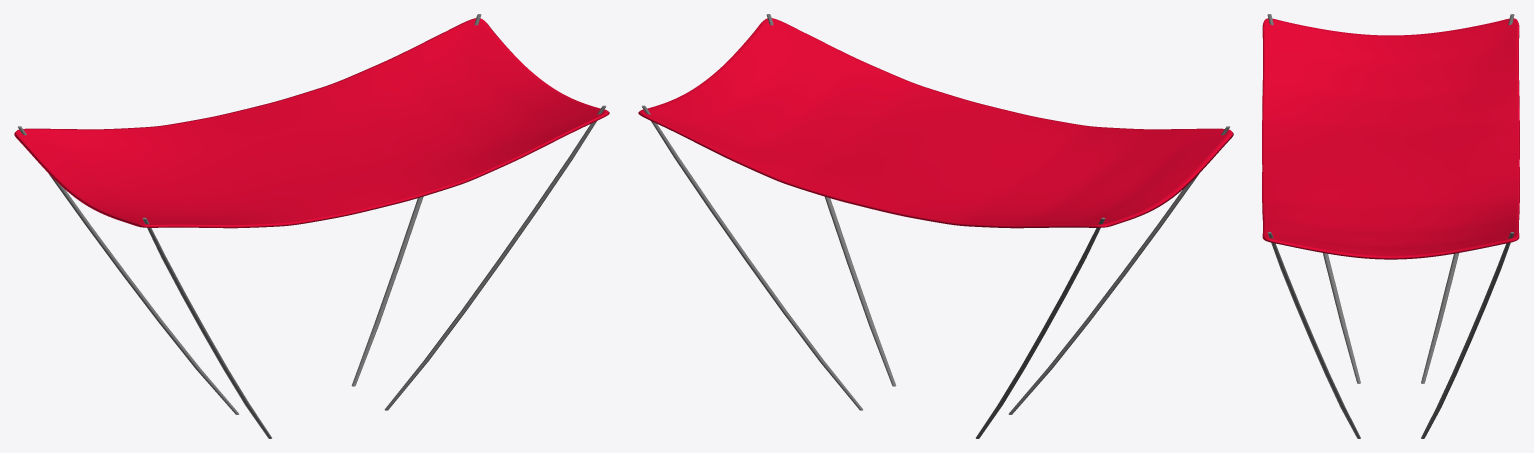
File: uploads_files_2587987_parachute!.fbx
3 renders of one model, left to right at view 1: azimuth 30°, elevation 25°; view 2: azimuth 150°, elevation 25°; view 3: azimuth 270°, elevation 25°, orthographic. The views are drawn at different scales.
Visible parts, largest first — view 1: Plane, Cylinder; view 2: Plane, Cylinder; view 3: Plane, Cylinder.
Part boxes in pixels (box(x1,y1,x2,y2)): Plane: box(14, 18, 609, 228); Cylinder: box(18, 14, 606, 438); Plane: box(638, 18, 1233, 228); Cylinder: box(641, 14, 1229, 438); Plane: box(1262, 18, 1519, 259); Cylinder: box(1267, 14, 1514, 438).
Size of the model in its own units: 498 by 298 by 243.
